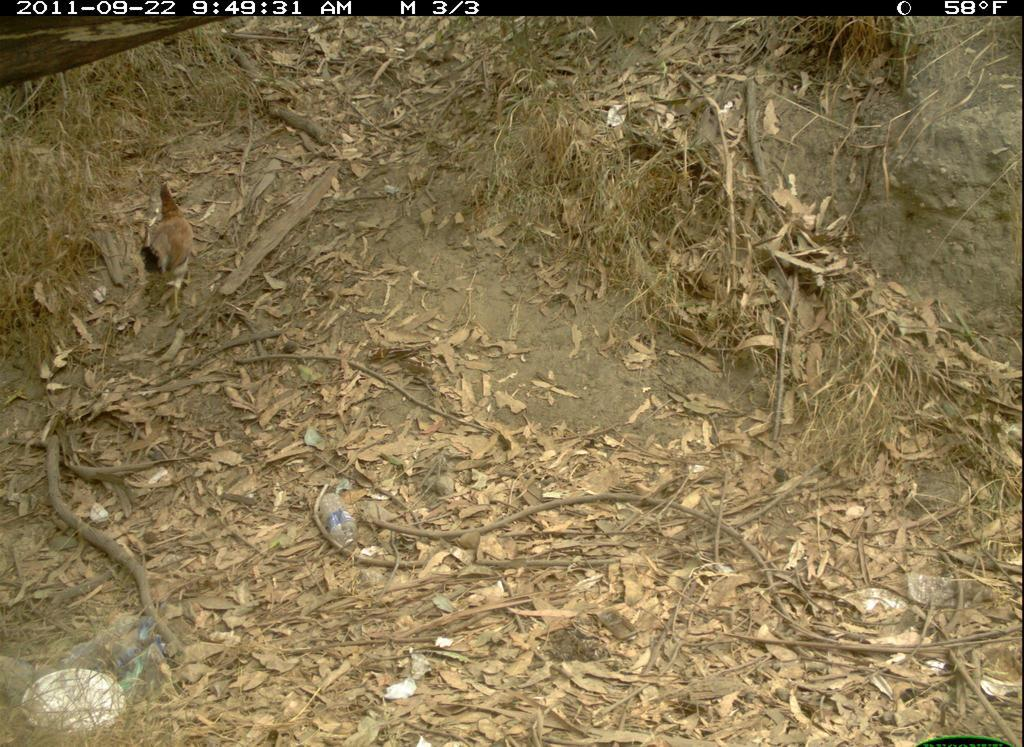bird: (130, 177, 214, 318)
